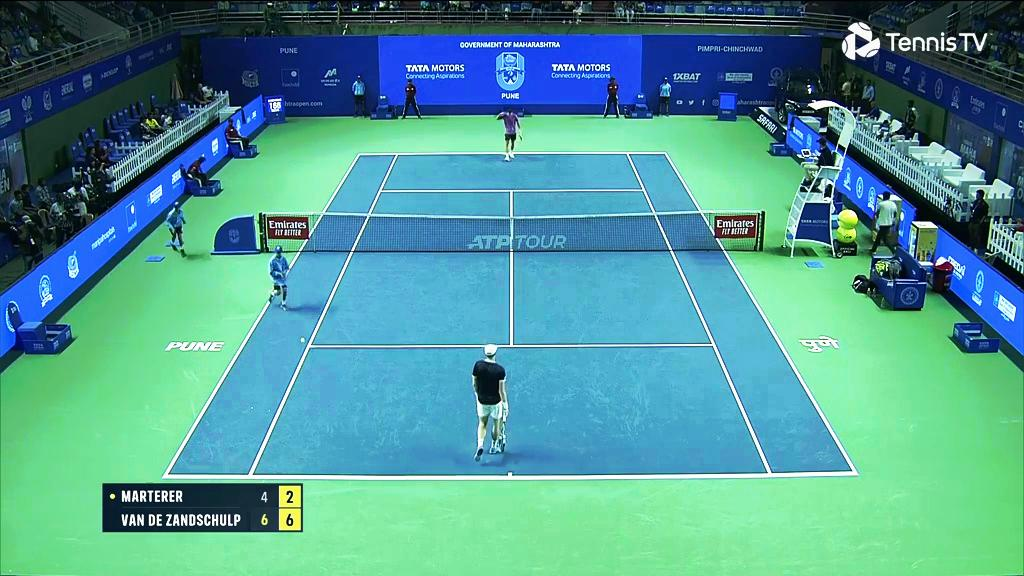tennis-court: (162, 153, 859, 479)
